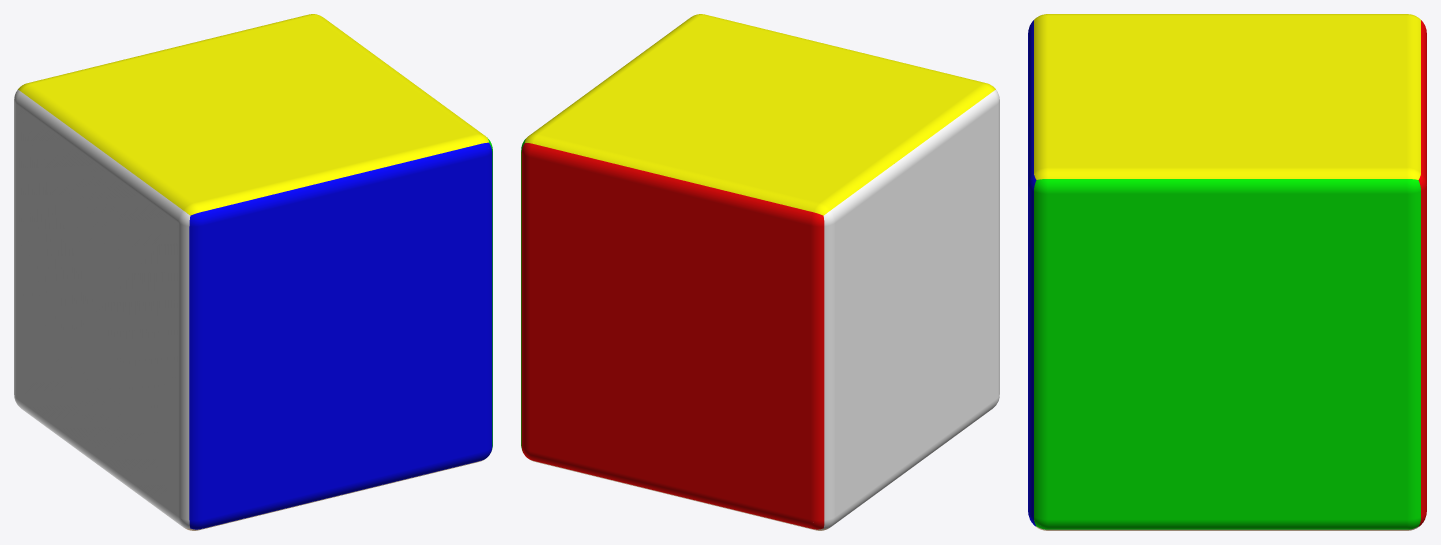
3 renders of one model, left to right at view 1: azimuth 30°, elevation 25°; view 2: azimuth 150°, elevation 25°; view 3: azimuth 270°, elevation 25°, orthographic. The views are drawn at different scales.
Visible parts, largest first — view 1: cube.SLDPRT; view 2: cube.SLDPRT; view 3: cube.SLDPRT.
Boxes of the visible parts, left/top/right/bottom form: cube.SLDPRT: left=14, top=14, right=492, bottom=530; cube.SLDPRT: left=521, top=14, right=999, bottom=530; cube.SLDPRT: left=1028, top=14, right=1426, bottom=530.
Size of the model in its own units: 0.0508 by 0.0508 by 0.0508.
